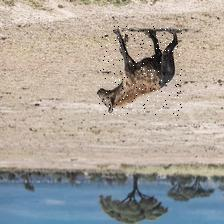hyena: (99, 25, 182, 115)
